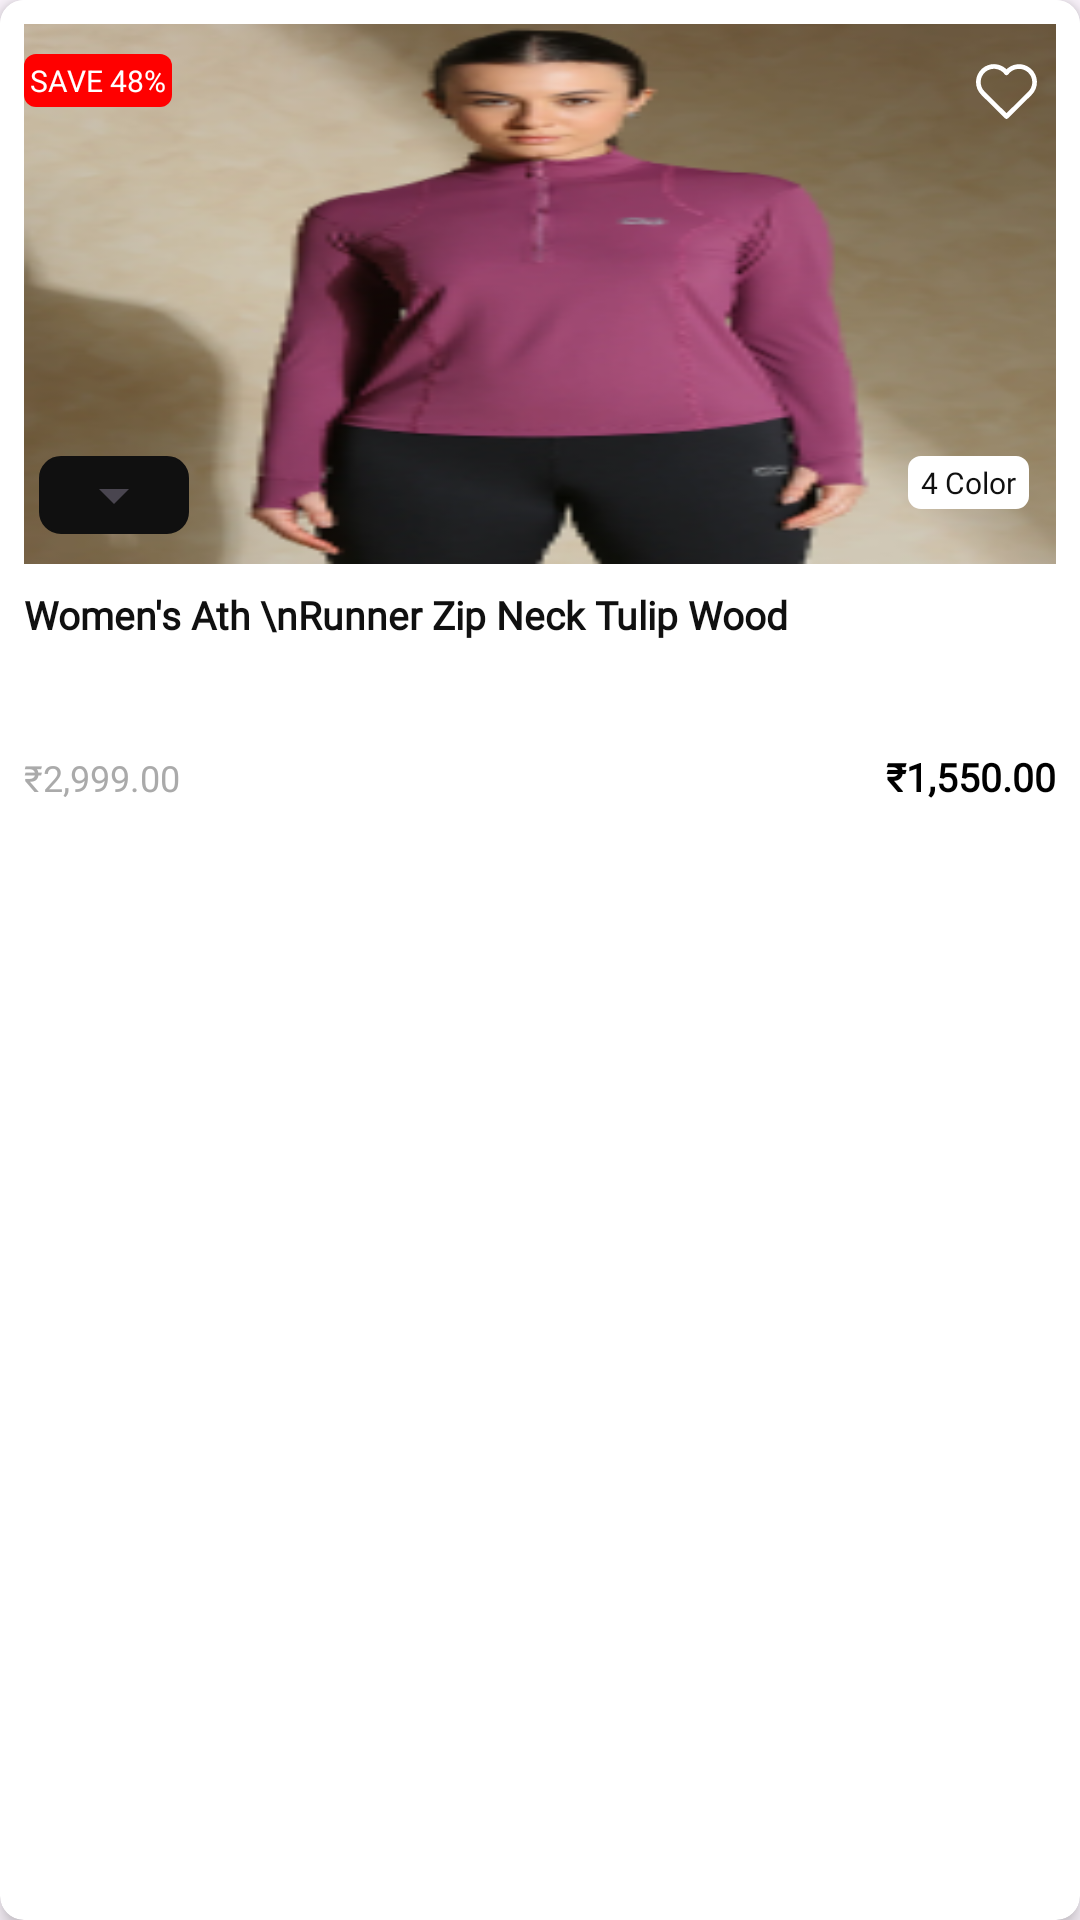

Screen size 1080 × 1920. Icon name, then its box in pixels as (x1, y1, x2, y2):
wishlist: (976, 64, 1037, 119)
